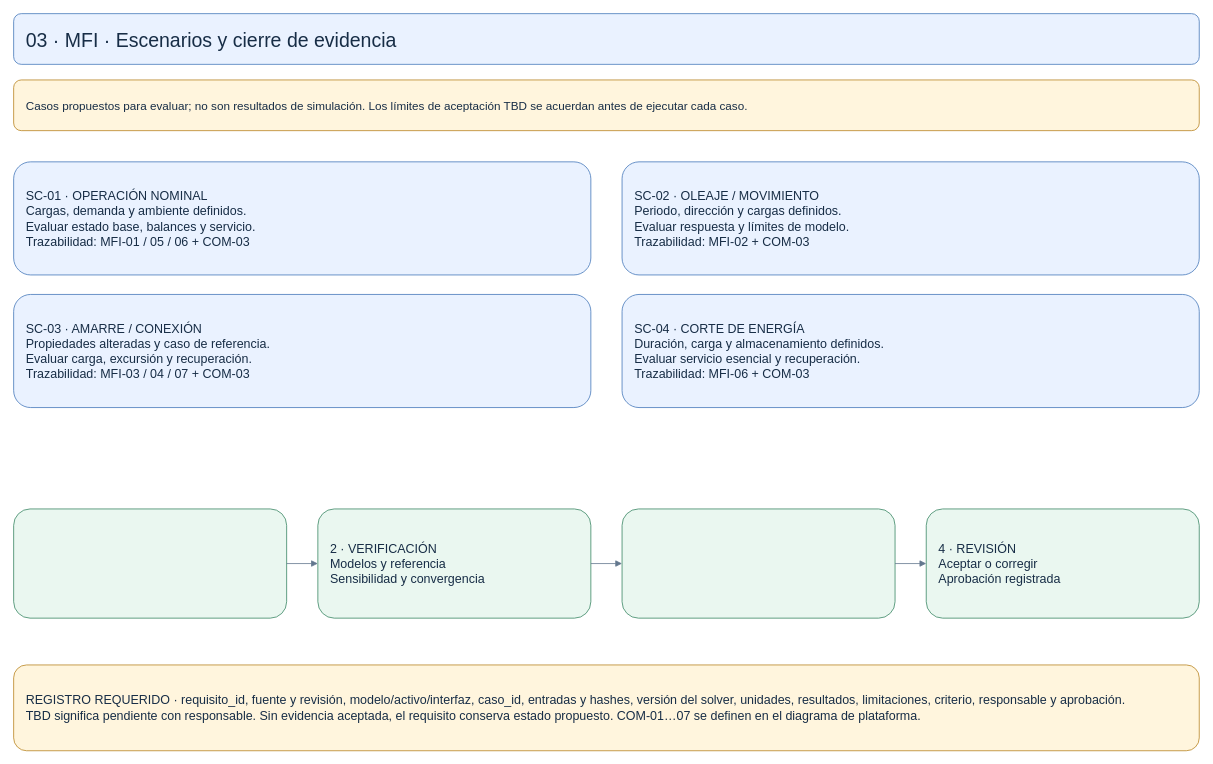
This 1213x764 diagram has some shape labels left out. Each missing label, with the centre of its shape:
"1 · LÍNEA BASE Requisitos y valores TBD Geometría / cargas / sitio" belongs at (x=150, y=563).
"3 · EVIDENCIA Casos + hashes + revisiones Unidades e incertidumbre" belongs at (x=758, y=563).
